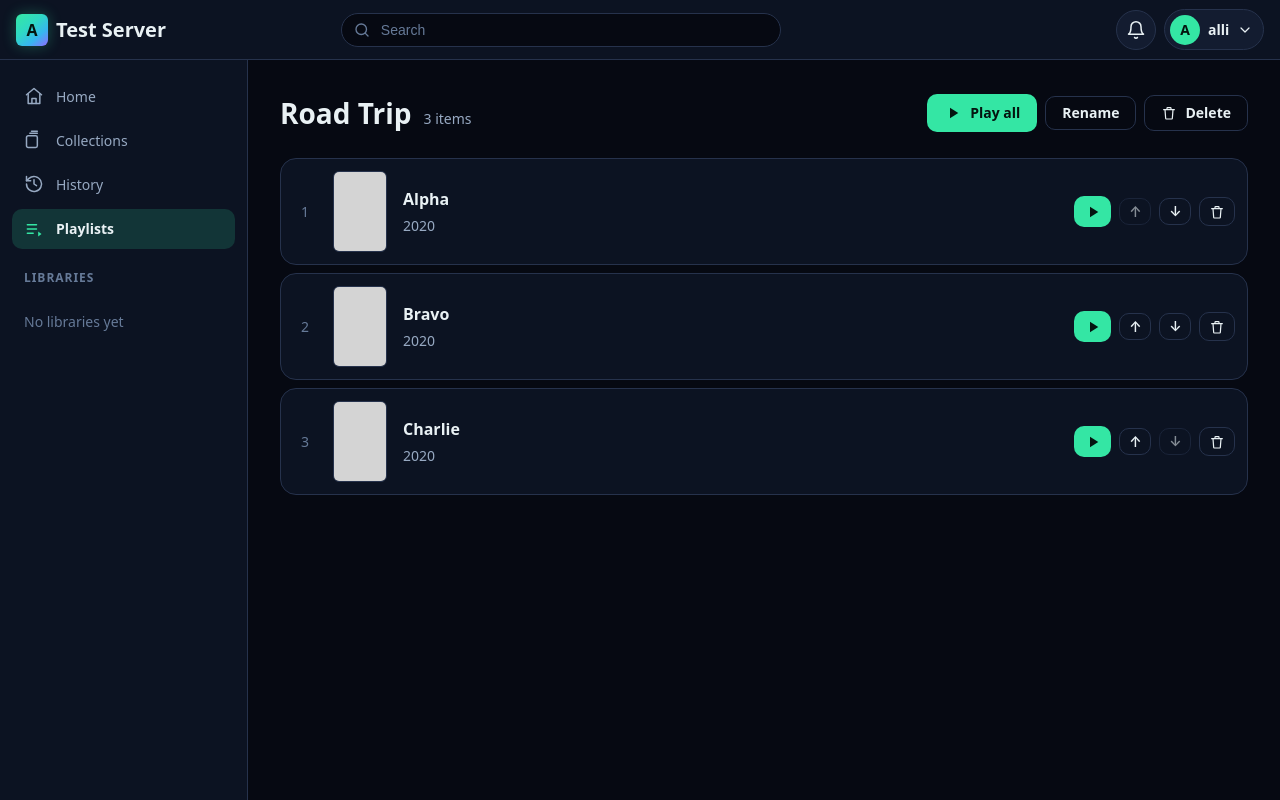
Test: PlaylistDetailPage › removes an item (DELETE /items/:mediaItemId)
The image size is (1280, 800).
Expected: the heading "Road Trip" is shown, [280,92,412,134]
Click the button named "Remove Bravo". click: coordinates (1217, 326)
box: [1199,312,1235,341]
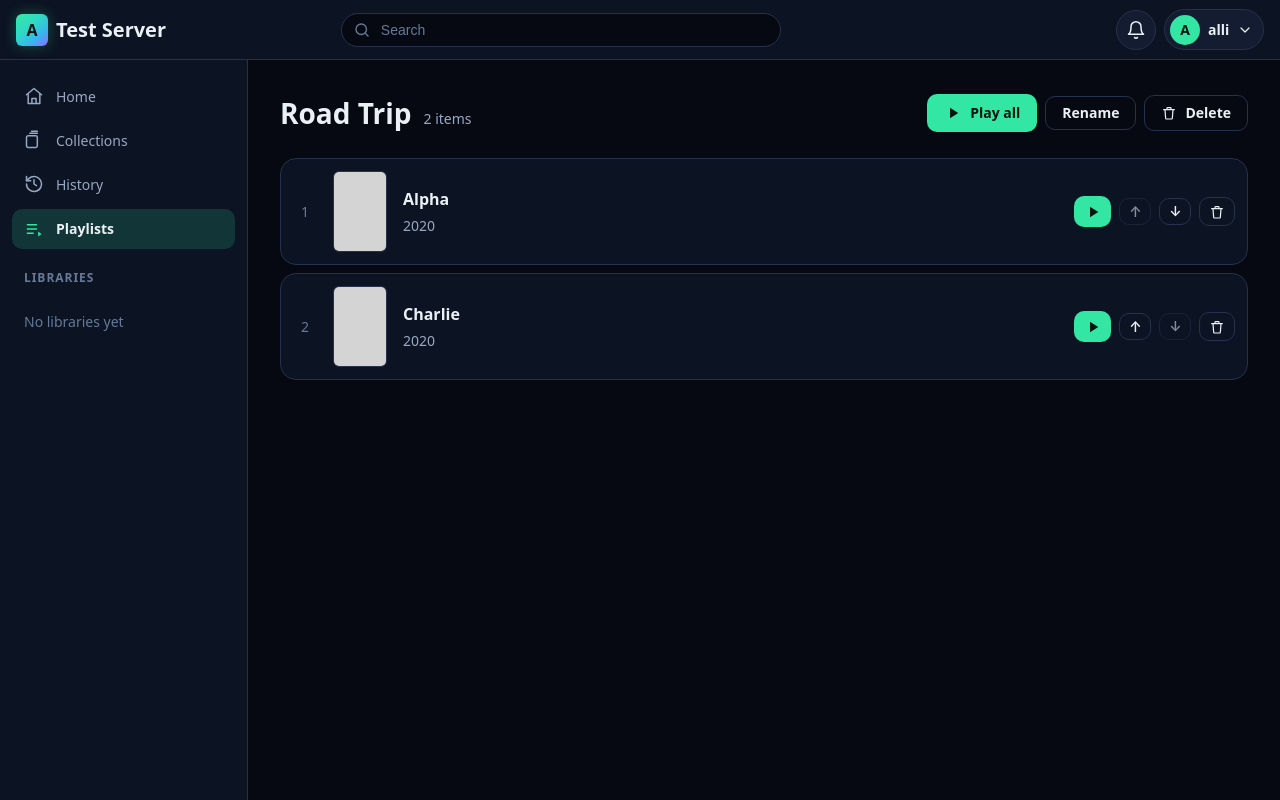
Result: the link "Bravo" is gone
